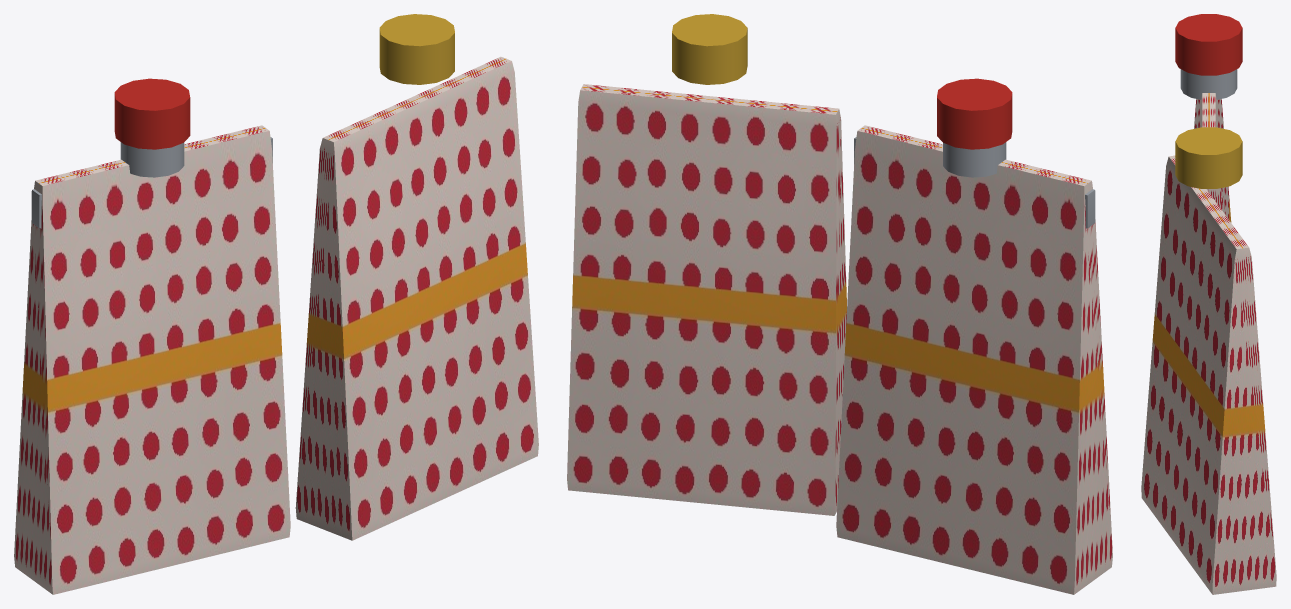
The model's file is ration_pouch_fruit_puree_spout.glb.
3 renders of one model, left to right at view 1: azimuth 30°, elevation 25°; view 2: azimuth 150°, elevation 25°; view 3: azimuth 270°, elevation 25°, orthographic. The views are drawn at different scales.
Visible parts, largest first — view 1: ration_pouch_fruit_puree_spout; view 2: ration_pouch_fruit_puree_spout; view 3: ration_pouch_fruit_puree_spout.
Boxes of the visible parts, box(x1,y1,x2,y2) form: ration_pouch_fruit_puree_spout: box(14, 14, 538, 594); ration_pouch_fruit_puree_spout: box(567, 14, 1112, 594); ration_pouch_fruit_puree_spout: box(1141, 14, 1276, 594).
Size of the model in its own units: 0.1917 by 0.165 by 0.0505.
Materials: 4 (1 with a texture image).
